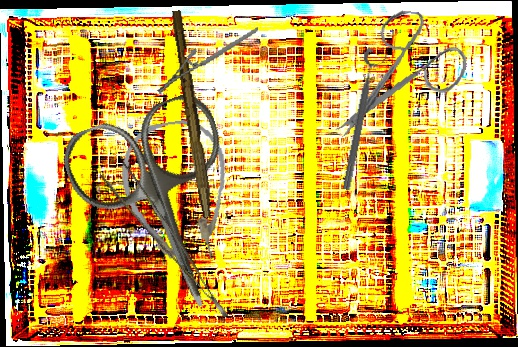Cannula: (114, 114, 240, 272)
Fixation Ring: (338, 47, 389, 193)
Iris Scissors: (55, 87, 273, 334), (334, 4, 472, 152)
Needle Holder: (148, 26, 268, 96)
Scalpel Handle: (166, 9, 219, 219)
Tissue Forceps: (101, 156, 228, 335)
